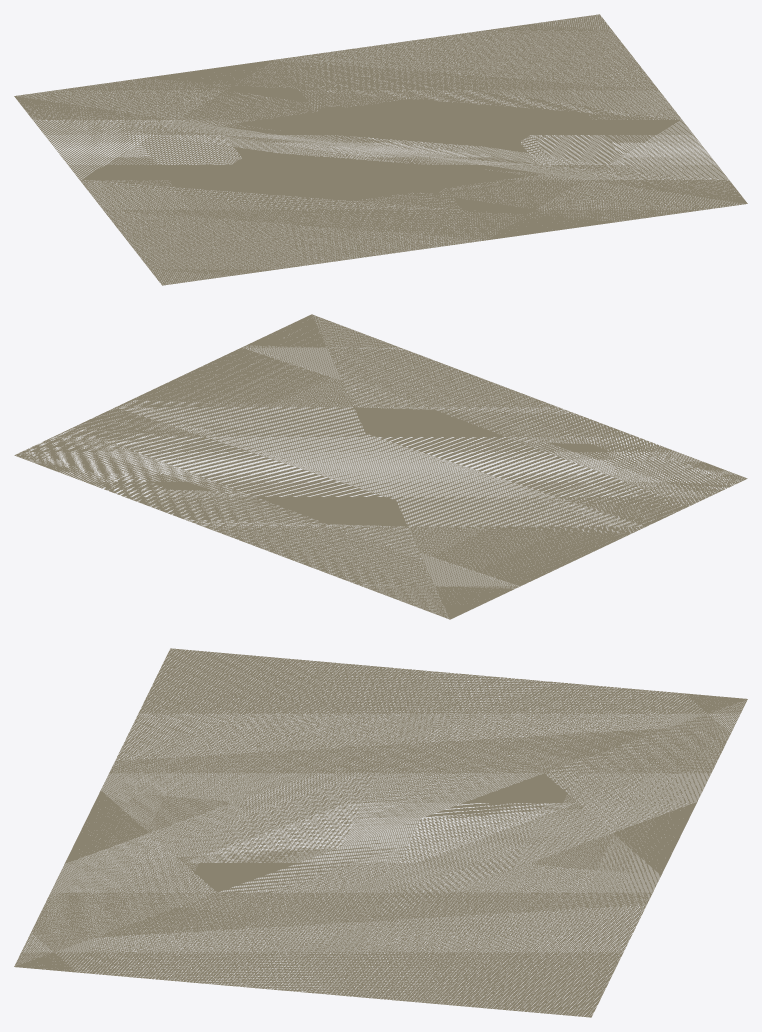
The model's file is 大本钟50.dae.
3 renders of one model, top to bottom at view 1: azimuth 30°, elevation 25°; view 2: azimuth 150°, elevation 25°; view 3: azimuth 270°, elevation 25°, orthographic. The views are drawn at different scales.
Visible parts, largest first — view 1: SketchUp; view 2: SketchUp; view 3: SketchUp.
Boxes of the visible parts, <box> form: SketchUp: <box>14,14,747,285</box>; SketchUp: <box>14,314,747,619</box>; SketchUp: <box>14,648,747,1017</box>.
Size of the model in its own units: 45.33 by 38.07 by 0.
